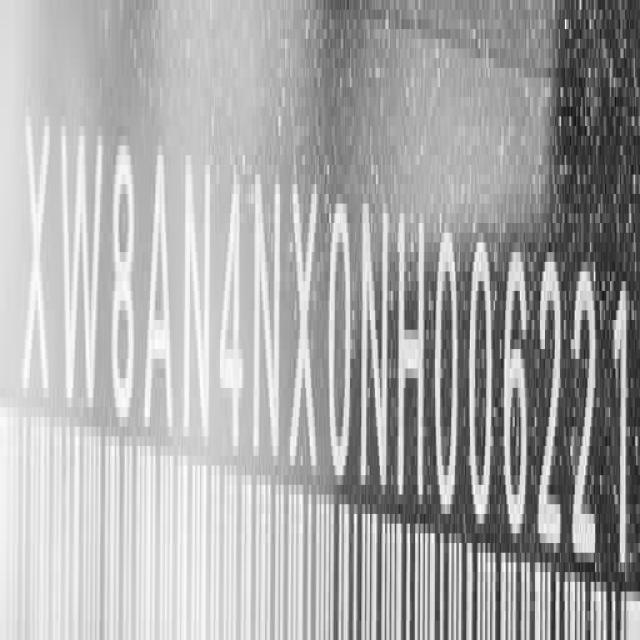0: (322, 169, 353, 510), (468, 246, 494, 554), (434, 227, 458, 520)
1: (612, 278, 629, 588)
2: (536, 251, 565, 558), (572, 263, 598, 561)
4: (220, 166, 244, 462)
6: (502, 254, 528, 554)
8: (104, 122, 138, 432)
A: (138, 119, 174, 432)
H: (396, 185, 426, 520)
N: (359, 196, 391, 505), (182, 146, 214, 452), (253, 146, 281, 471)
W: (60, 115, 104, 437)
X: (290, 146, 322, 505), (22, 80, 56, 413)
